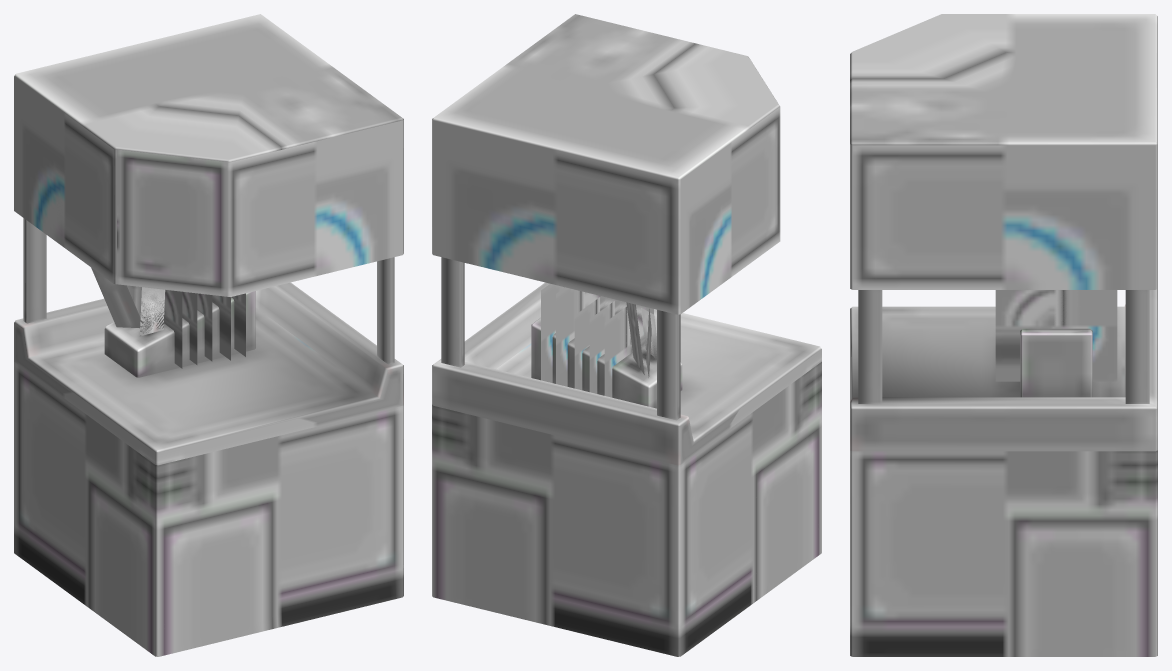
The model's file is int_oth_sys_kB.dae.
3 renders of one model, left to right at view 1: azimuth 30°, elevation 25°; view 2: azimuth 150°, elevation 25°; view 3: azimuth 270°, elevation 25°, orthographic. The views are drawn at different scales.
Visible parts, largest first — view 1: int_oth_sys_kB; view 2: int_oth_sys_kB; view 3: int_oth_sys_kB.
Boxes of the visible parts, x1,y1,x2,y2 form: int_oth_sys_kB: (14, 14, 403, 656); int_oth_sys_kB: (432, 14, 821, 656); int_oth_sys_kB: (850, 14, 1157, 656).
Bounding box in the file's own units: 30.4 × 56 × 30.4.
Materials: 1 (1 with a texture image).
